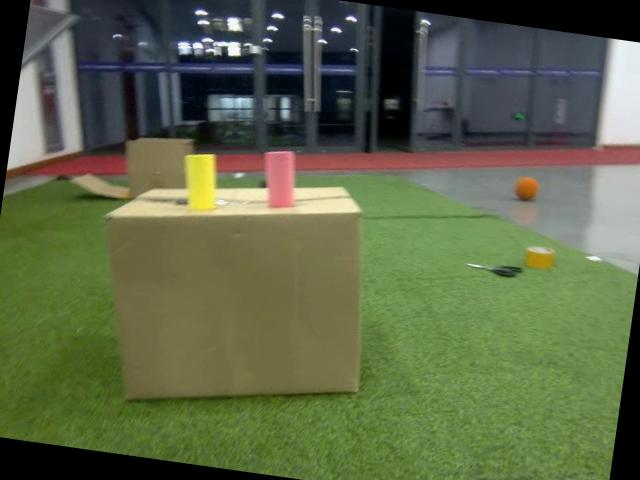orange_ball: (514, 174, 539, 204)
red_cylinder: (254, 146, 304, 214)
yellow_cylinder: (174, 147, 224, 214)
